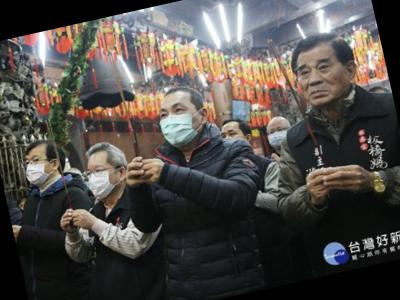with_mask: (156, 96, 208, 149), (84, 159, 124, 201), (21, 150, 59, 189), (266, 122, 292, 150)
without_mask: (293, 51, 359, 111)
